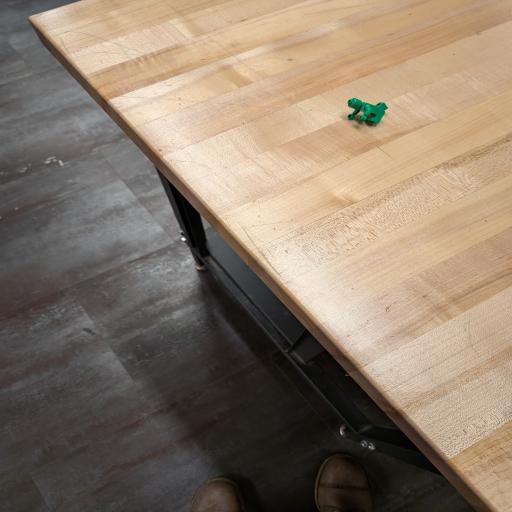Minifig: (347, 98, 387, 123)
